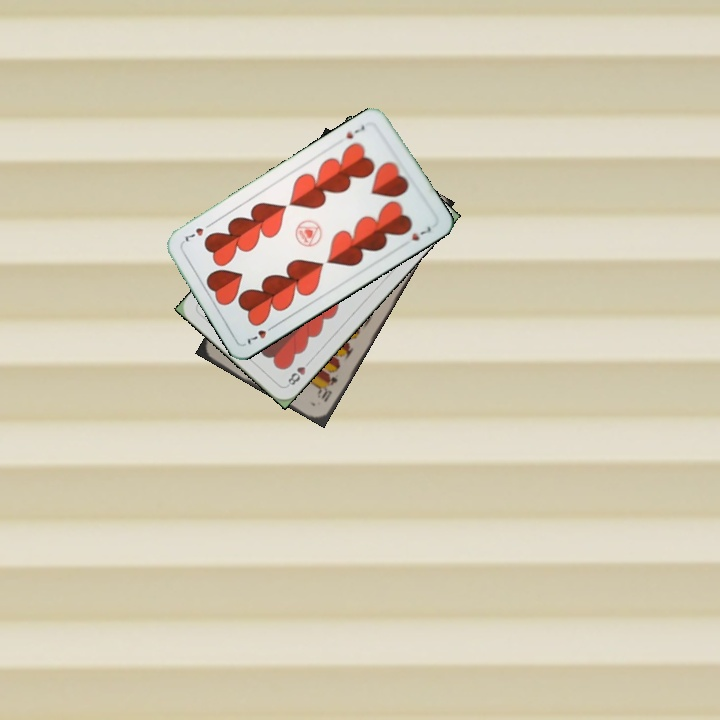E10: (314, 372, 340, 405)
H7: (243, 321, 278, 348), (342, 121, 367, 142)
H8: (283, 356, 314, 389)
